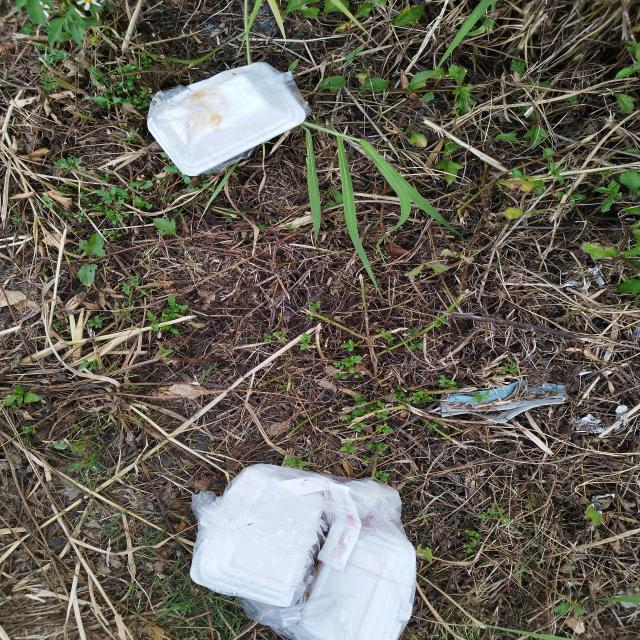foam box: (192, 462, 324, 605), (146, 63, 307, 177), (302, 529, 418, 640)
trash bag: (193, 461, 415, 640)
